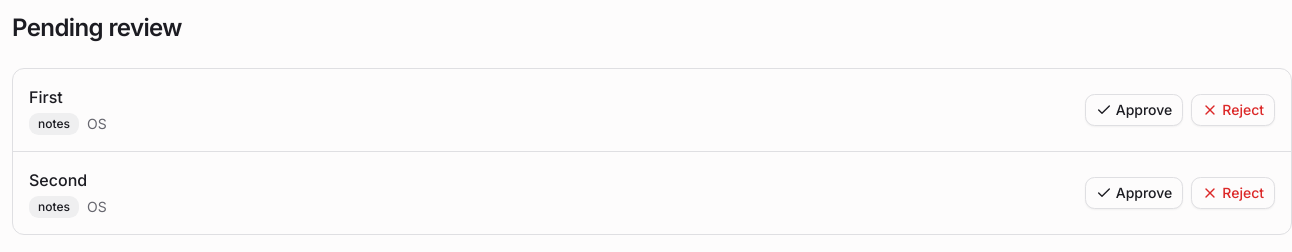
Test: AdminPendingPage › only disables the row being acted on, not the whole queue
The image size is (1292, 252).
Expected: the text "First" is shown, [29, 87, 63, 107]
Click the button "Approve" in the row of "First" at (1134, 110), box [1085, 94, 1183, 126]
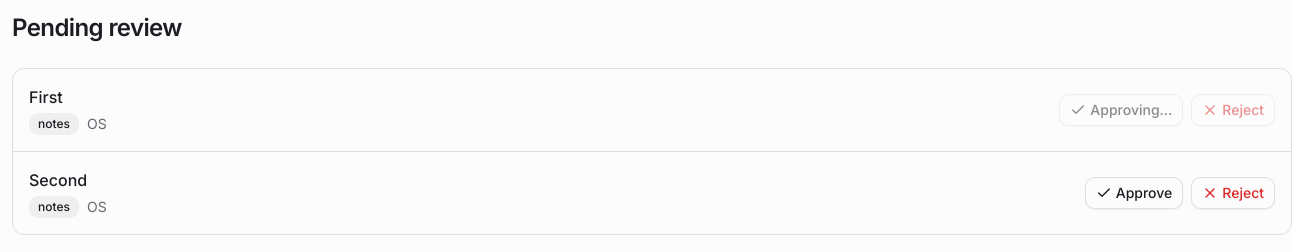
Expected: the button "Approve" is enabled, [1085, 177, 1183, 209]
Expected: the button "Approving..." is disabled, [1059, 94, 1183, 126]
